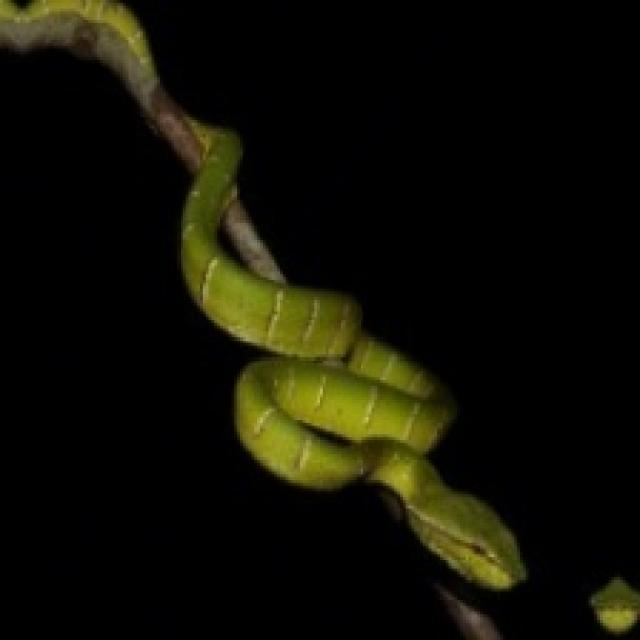north ph temple pitviper: (0, 0, 523, 586)
